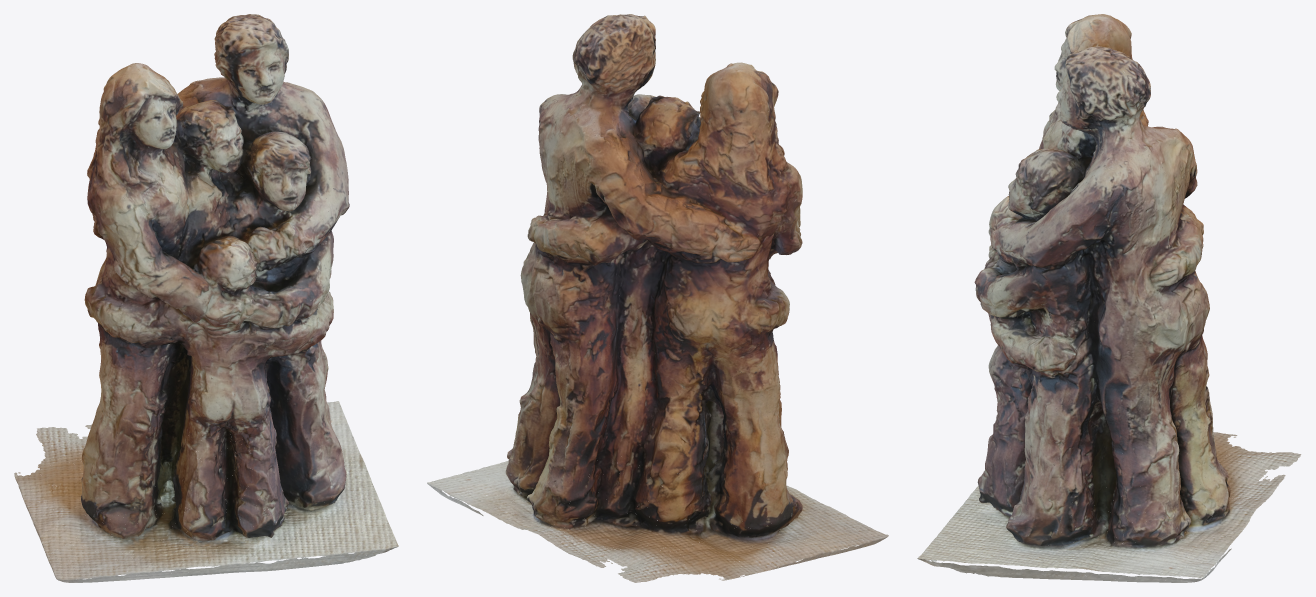
The model's file is giadinh-v2.glb.
The picture shows the model from 3 angles, left to right: view 1: azimuth 30°, elevation 25°; view 2: azimuth 150°, elevation 25°; view 3: azimuth 270°, elevation 25°; orthographic projection.
Parts seen in each view (by area): view 1: Object_3, Object_2, Object_4; view 2: Object_2, Object_3, Object_4; view 3: Object_2, Object_3, Object_4.
Boxes of the visible parts, x1,y1,x2,y2 form: Object_3: (14,15,389,582); Object_2: (84,14,349,458); Object_4: (18,18,398,582); Object_2: (512,14,802,474); Object_3: (427,14,883,582); Object_4: (429,19,888,582); Object_2: (989,14,1215,526); Object_3: (924,14,1301,582); Object_4: (917,61,1294,582).
Bounding box in the file's own units: 6.12 × 7.79 × 5.49.
Materials: 1 (1 with a texture image).
